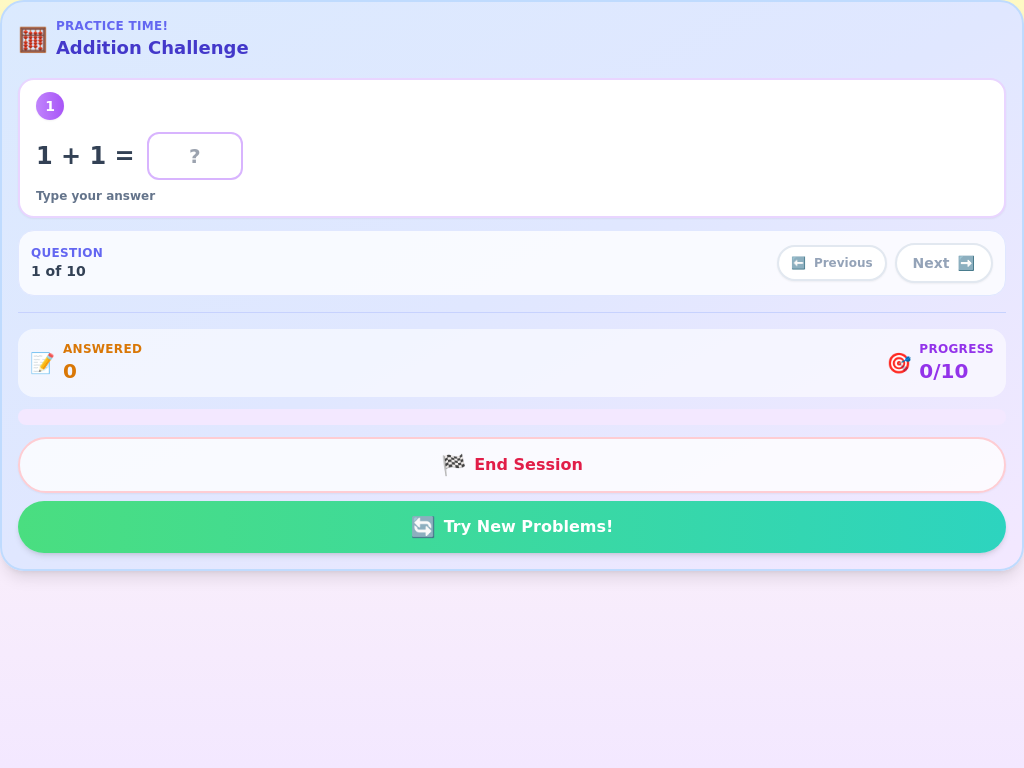
Test: EquationList › updates session stats as answers are entered
This screenshot has width=1024, height=768.
expect the text "Answered" is shown: met, box 63,341 -> 142,357
expect the text "Progress" is shown: met, box 919,341 -> 994,357
Step 1. Type "1" into the field → coordinates (195, 156), box 147,132 -> 243,180
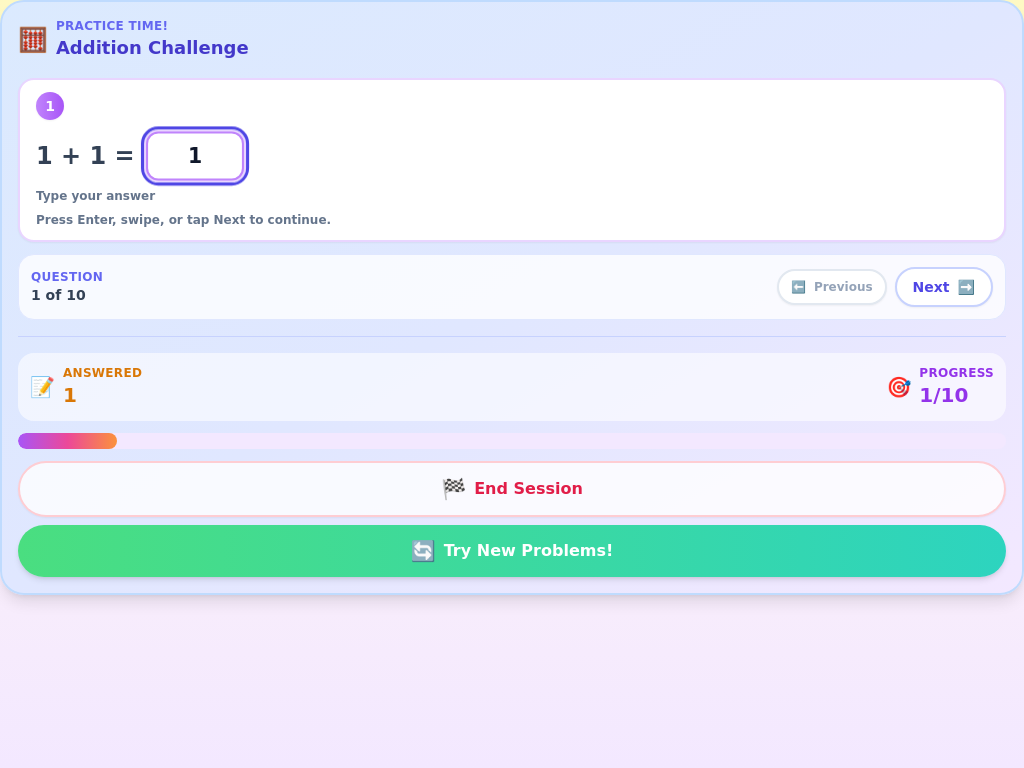
expect the text "1/10" is shown: met, box 919,383 -> 968,407
